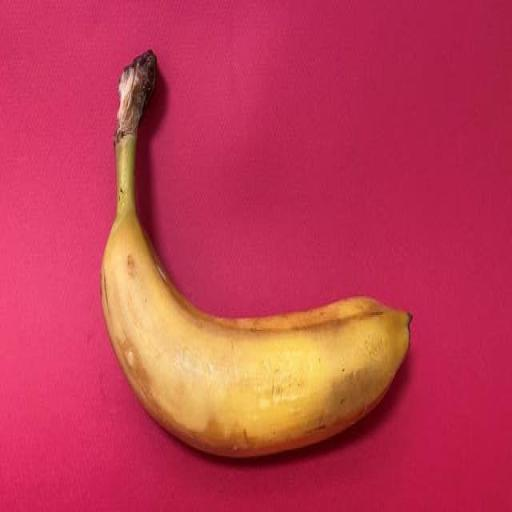fruit: (101, 52, 410, 456)
